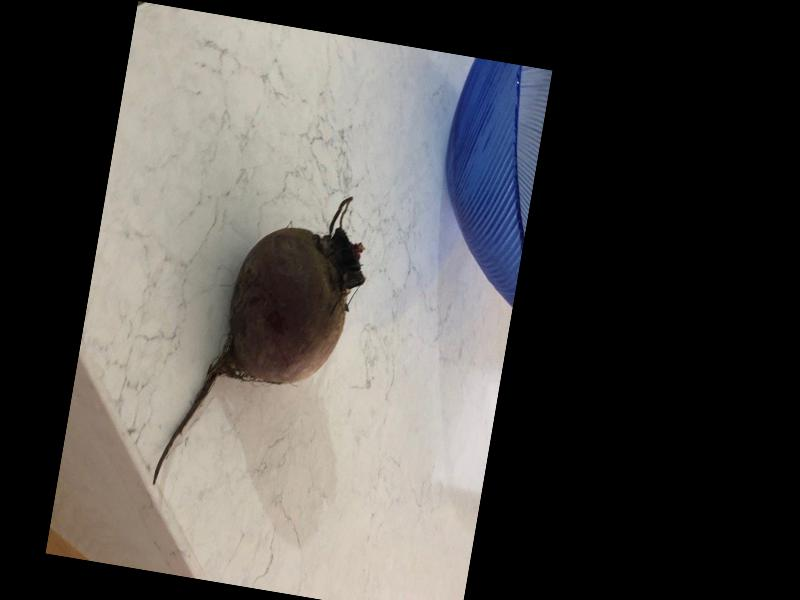Beet: (151, 173, 376, 511)
